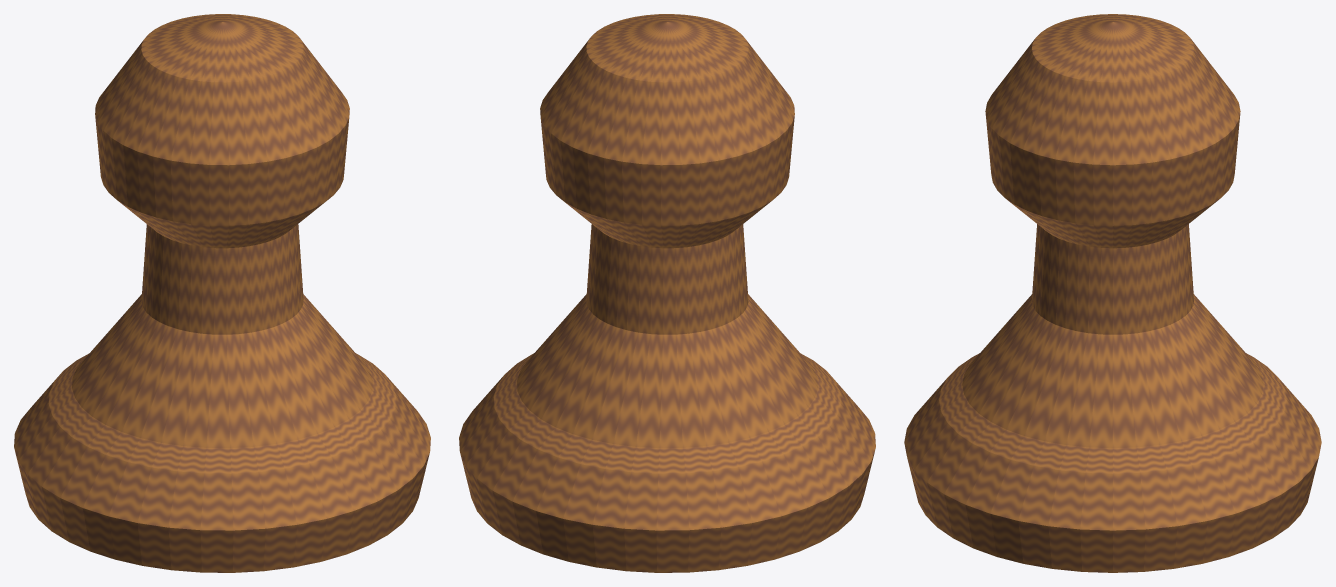
Rendered from pawn_ebony.obj.
3 views of the same model, side by side, from view 1: azimuth 30°, elevation 25°; view 2: azimuth 150°, elevation 25°; view 3: azimuth 270°, elevation 25° (orthographic).
Bounding box in the file's own units: 0.72 × 0.89 × 0.72.
1 material, 1 textured.
